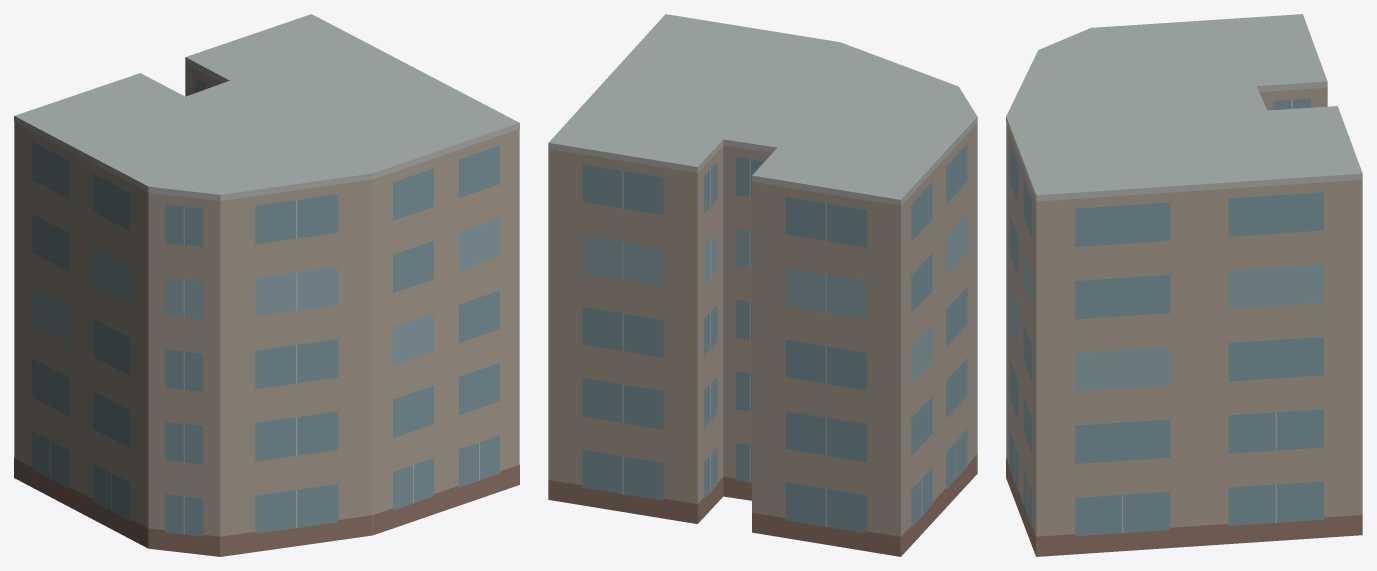
The model's file is survey-upis-32942385.glb.
The picture shows the model from 3 angles, left to right: view 1: azimuth 30°, elevation 25°; view 2: azimuth 150°, elevation 25°; view 3: azimuth 270°, elevation 25°; orthographic projection.
Parts seen in each view (by area): view 1: survey-upis-32942385.tmp; view 2: survey-upis-32942385.tmp; view 3: survey-upis-32942385.tmp.
Part boxes in pixels (x1,y1,x2,y2): survey-upis-32942385.tmp: (14,14,519,556); survey-upis-32942385.tmp: (548,14,977,556); survey-upis-32942385.tmp: (1006,14,1362,556).
Size of the model in its own units: 15.45 by 14.35 by 12.84.
